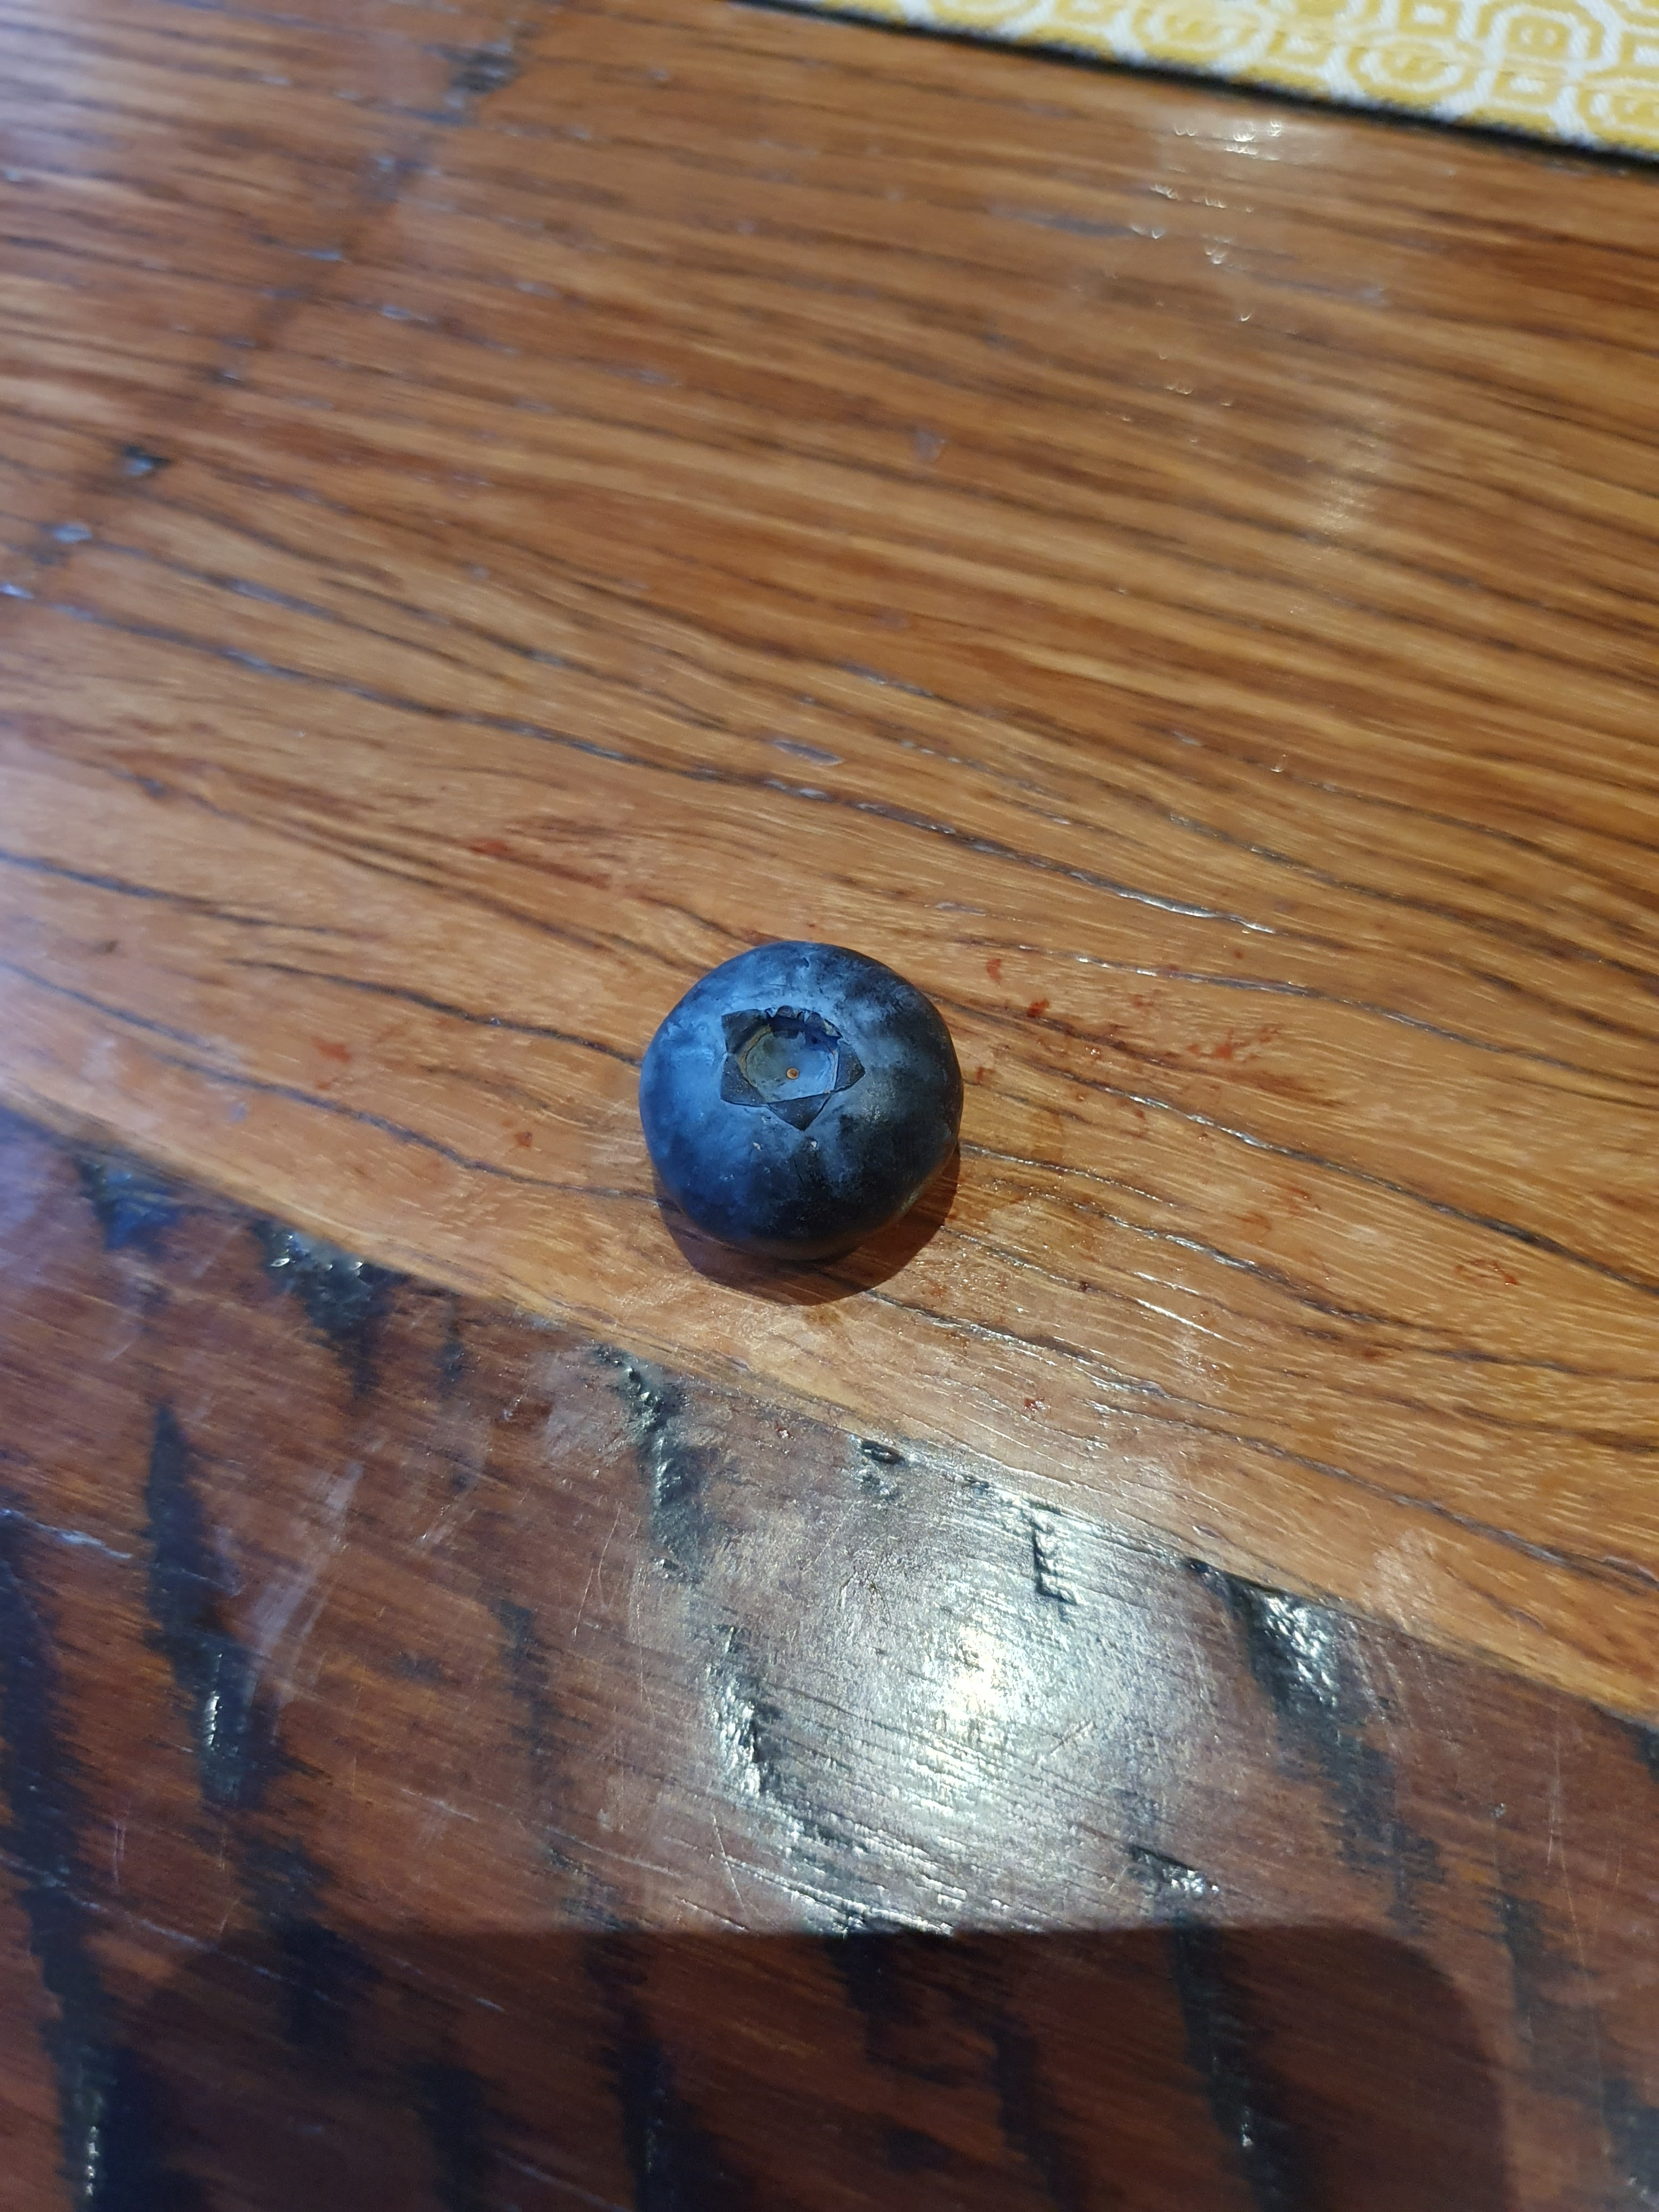blueberry: (599, 902, 995, 1291)
